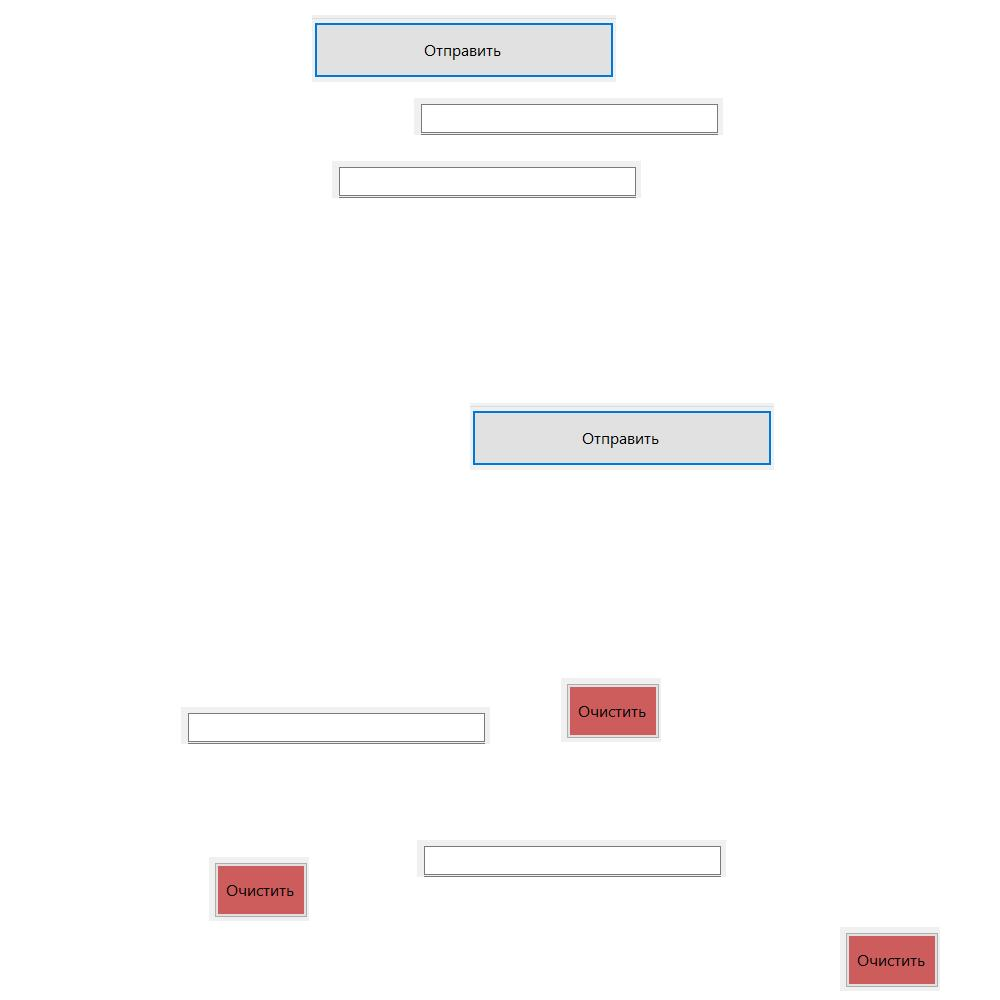Button: (312, 15, 616, 82), (470, 403, 774, 470), (209, 857, 309, 921), (561, 678, 661, 742), (840, 927, 940, 991)
EditText-: (417, 840, 726, 877), (181, 707, 490, 744), (414, 98, 723, 135), (332, 161, 641, 198)
